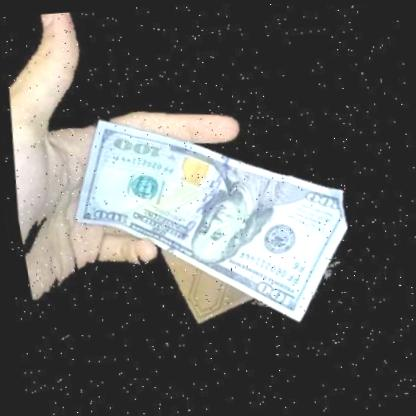one_hundred-front: (41, 88, 372, 354)
